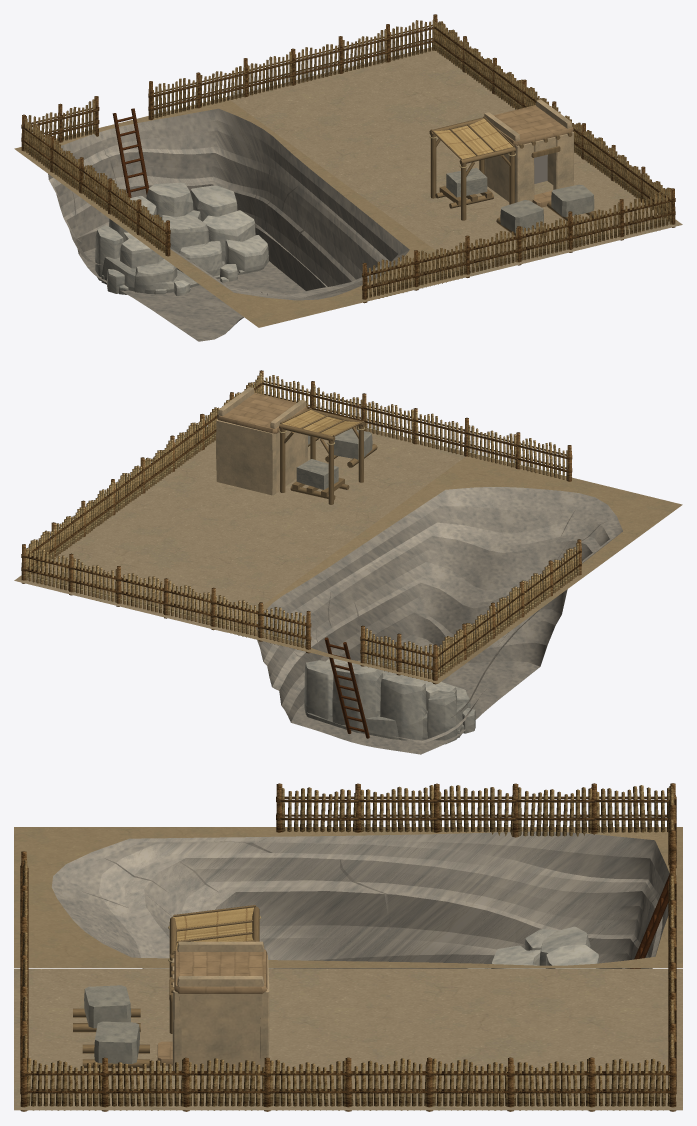
File: quarry.glb
3 renders of one model, top to bottom at view 1: azimuth 30°, elevation 25°; view 2: azimuth 150°, elevation 25°; view 3: azimuth 270°, elevation 25°, orthographic. The views are drawn at different scales.
Parts seen in each view (by area): view 1: excavated-stone-bowl-48-17, quarry-yard-ground, bound-reed-quarry-fence, excavated-stone-deposit, excavated-stone-rim-48-17, original-quarry-warm-clay-plaster, original-quarry-worn-timber, original-quarry-bank-stone, original-quarry-game-raw-brick-facing, original-quarry-laid-reed-thatch, excavated-stone-ladder-48-17; view 2: excavated-stone-bowl-48-17, quarry-yard-ground, bound-reed-quarry-fence, excavated-stone-rim-48-17, excavated-stone-deposit, original-quarry-warm-clay-plaster, original-quarry-worn-timber, original-quarry-game-raw-brick-facing, original-quarry-bank-stone, excavated-stone-ladder-48-17, original-quarry-laid-reed-thatch; view 3: excavated-stone-bowl-48-17, quarry-yard-ground, bound-reed-quarry-fence, excavated-stone-rim-48-17, original-quarry-warm-clay-plaster, original-quarry-bank-stone, original-quarry-game-raw-brick-facing, excavated-stone-deposit, original-quarry-worn-timber, original-quarry-laid-reed-thatch, excavated-stone-ladder-48-17.
Boxes of the visible parts, x1=… form: excavated-stone-bowl-48-17: x1=48, y1=108, x2=409, y2=341; quarry-yard-ground: x1=226, y1=47, x2=682, y2=276; bound-reed-quarry-fence: x1=21, y1=14, x2=675, y2=303; excavated-stone-deposit: x1=95, y1=182, x2=268, y2=295; excavated-stone-rim-48-17: x1=14, y1=97, x2=470, y2=327; original-quarry-warm-clay-plaster: x1=484, y1=99, x2=573, y2=202; original-quarry-worn-timber: x1=429, y1=116, x2=597, y2=241; original-quarry-bank-stone: x1=446, y1=168, x2=594, y2=232; original-quarry-game-raw-brick-facing: x1=494, y1=105, x2=573, y2=207; original-quarry-laid-reed-thatch: x1=434, y1=118, x2=512, y2=159; excavated-stone-ladder-48-17: x1=112, y1=108, x2=148, y2=197; excavated-stone-bowl-48-17: x1=256, y1=487, x2=622, y2=754; quarry-yard-ground: x1=14, y1=426, x2=465, y2=632; bound-reed-quarry-fence: x1=21, y1=370, x2=581, y2=684; excavated-stone-rim-48-17: x1=226, y1=453, x2=682, y2=683; excavated-stone-deposit: x1=304, y1=658, x2=475, y2=744; original-quarry-warm-clay-plaster: x1=216, y1=387, x2=307, y2=495; original-quarry-worn-timber: x1=279, y1=408, x2=377, y2=504; original-quarry-game-raw-brick-facing: x1=217, y1=392, x2=307, y2=433; original-quarry-bank-stone: x1=296, y1=428, x2=372, y2=489; excavated-stone-ladder-48-17: x1=324, y1=637, x2=369, y2=738; original-quarry-laid-reed-thatch: x1=282, y1=410, x2=359, y2=435; excavated-stone-bowl-48-17: x1=51, y1=831, x2=669, y2=968; quarry-yard-ground: x1=14, y1=969, x2=682, y2=1110; bound-reed-quarry-fence: x1=20, y1=783, x2=676, y2=1111; excavated-stone-rim-48-17: x1=14, y1=827, x2=682, y2=968; original-quarry-warm-clay-plaster: x1=172, y1=941, x2=269, y2=1075; original-quarry-bank-stone: x1=84, y1=985, x2=139, y2=1063; original-quarry-game-raw-brick-facing: x1=157, y1=949, x2=267, y2=1065; excavated-stone-deposit: x1=467, y1=926, x2=599, y2=968; original-quarry-worn-timber: x1=73, y1=905, x2=259, y2=1068; original-quarry-laid-reed-thatch: x1=173, y1=907, x2=253, y2=949; excavated-stone-ladder-48-17: x1=630, y1=874, x2=669, y2=968.
Size of the model in its own units: 12 by 4.77 by 12.
11 materials, 10 textured.
